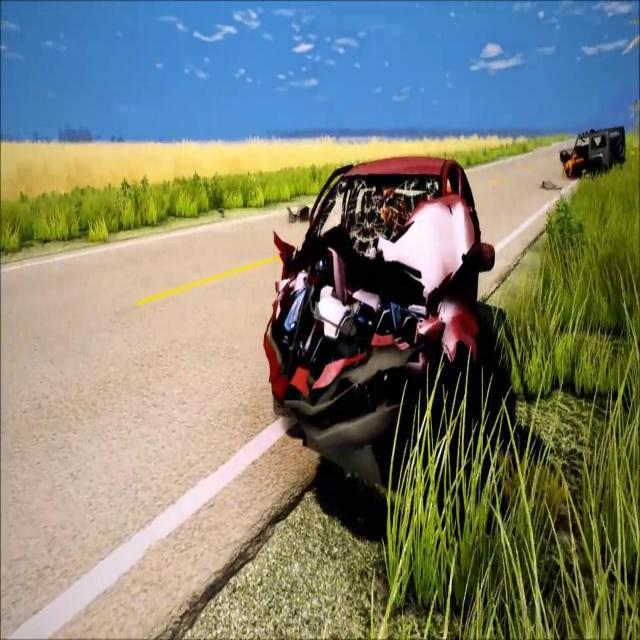severe: (262, 152, 496, 460)
